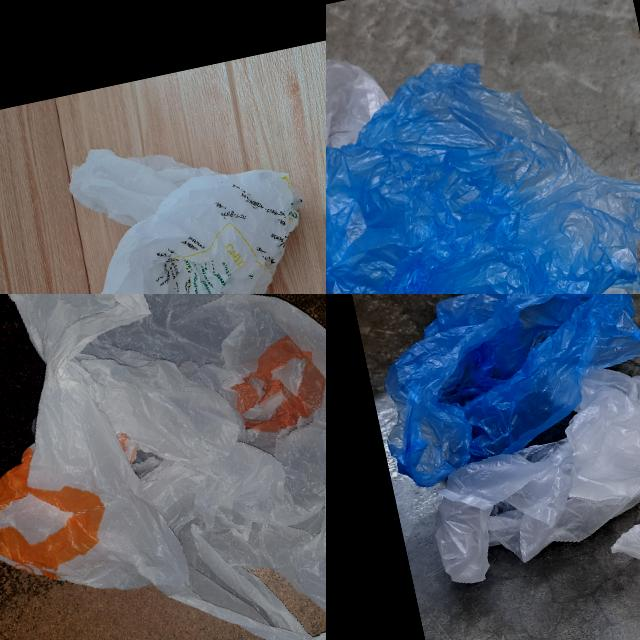sacola plástica: (0, 294, 326, 640), (326, 18, 640, 294), (404, 343, 640, 592), (355, 294, 640, 488), (37, 107, 326, 294), (326, 45, 445, 294), (327, 237, 640, 294)
